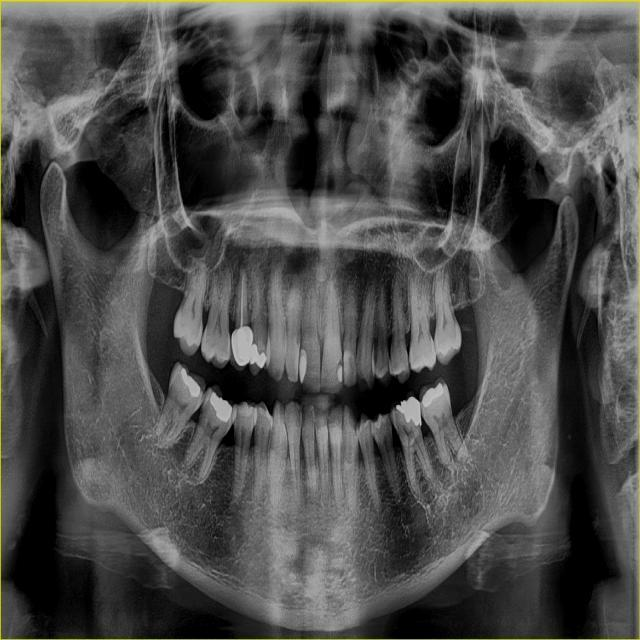Caries: (197, 405, 205, 424), (336, 360, 342, 375)
Crown: (229, 324, 253, 371)
Filling: (396, 398, 422, 427), (209, 392, 232, 423), (180, 365, 200, 397), (423, 383, 444, 407), (249, 344, 266, 368), (300, 348, 307, 383), (338, 364, 342, 382)
Periapical lesion: (236, 261, 249, 284)
Root Canal Treatment: (240, 274, 244, 327)
